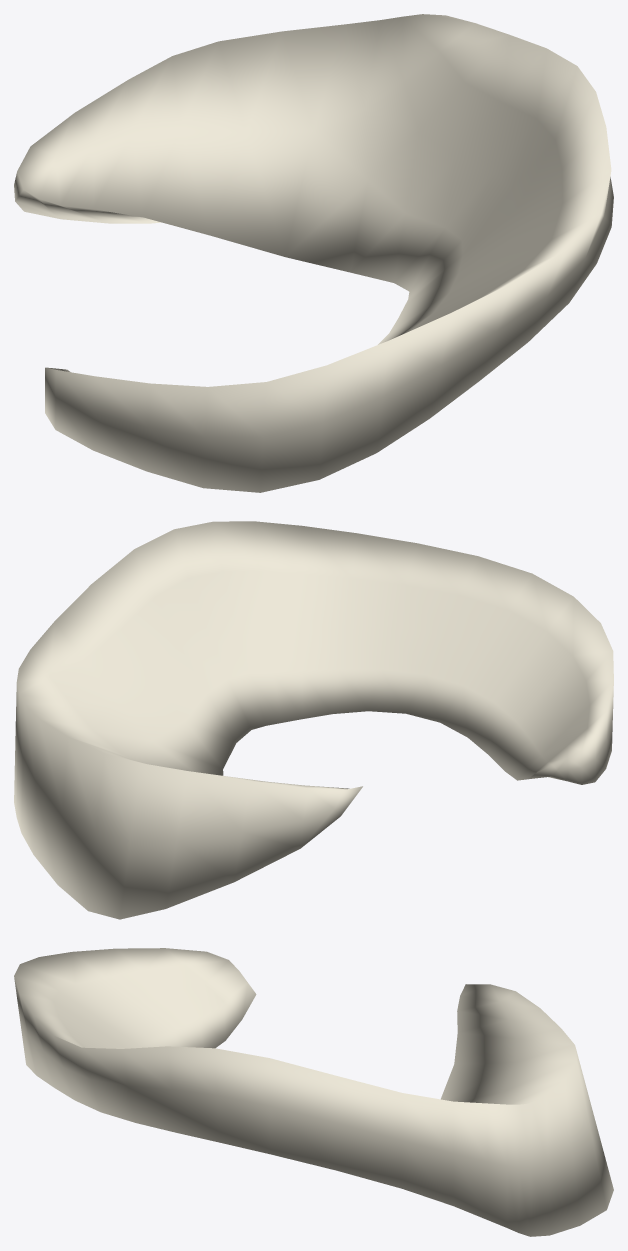
3 views of the same model, one above another, from view 1: azimuth 30°, elevation 25°; view 2: azimuth 150°, elevation 25°; view 3: azimuth 270°, elevation 25° (orthographic). The views are drawn at different scales.
Visible parts, largest first — view 1: ZA_91af724307e9d0e0; view 2: ZA_91af724307e9d0e0; view 3: ZA_91af724307e9d0e0.
Boxes of the visible parts, x1=… form: ZA_91af724307e9d0e0: x1=14, y1=14, x2=613, y2=492; ZA_91af724307e9d0e0: x1=14, y1=521, x2=613, y2=919; ZA_91af724307e9d0e0: x1=14, y1=948, x2=613, y2=1236.
Size of the model in its own units: 0.0338 by 0.0153 by 0.0387.
